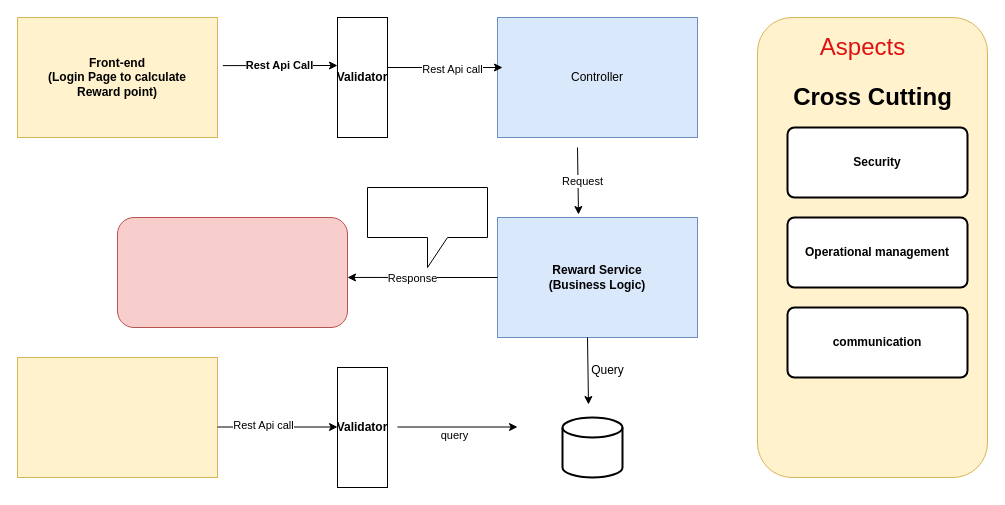
Some shapes in this 1005 by 505 pixel diagram are drawn without their labels. The shapes that lost their labels are listed below. From the top down, each one's box as (x1, y1, x2, y2) in pixels, then its label:
(366, 186, 488, 268): Resource Not found Customer ID not found
(116, 216, 348, 328): Global exception handler
(16, 356, 218, 478): Front-end ( Store Customer transactions)
(561, 416, 623, 478): MySql Database
